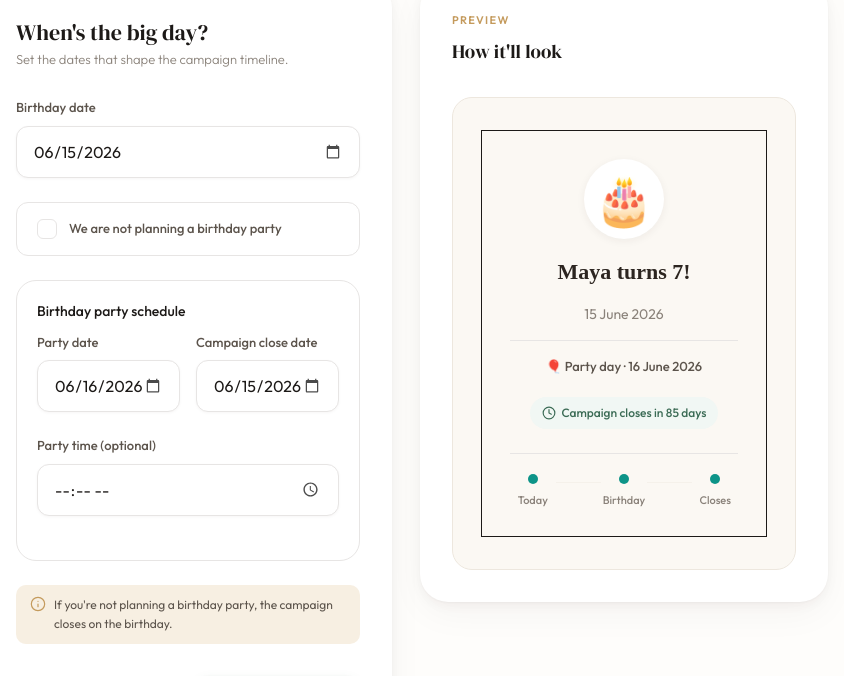
Test: DatesForm › clamps planned-party dates forward when birthday moves later
Type "2026-06-20" into the date field with id "birthdayDate" at (188, 152), box [16,126,360,178]
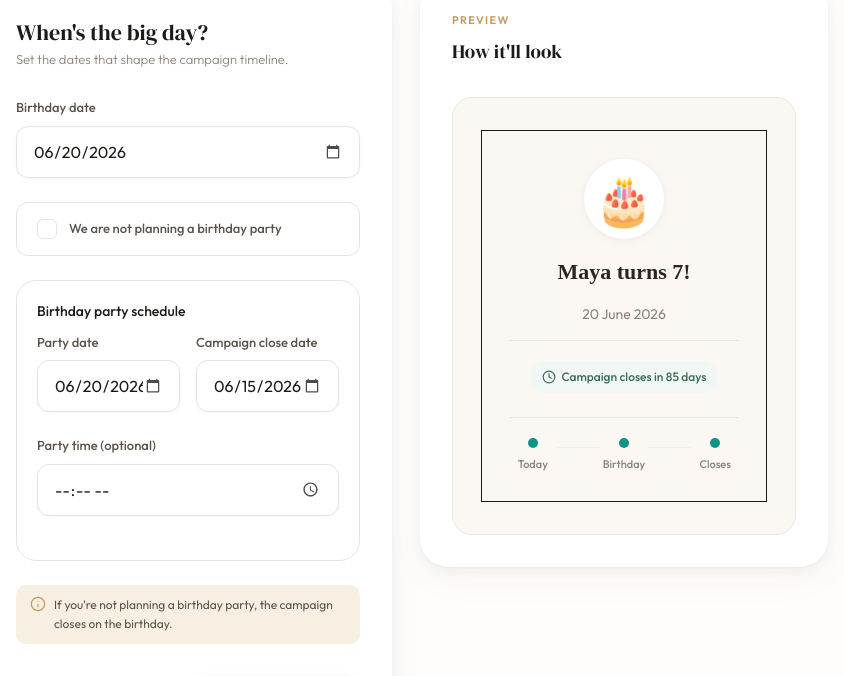
Expected: the date field with id "campaignEndDate" holds "2026-06-15", [196,360,339,412]
Expected: the date field labelled "Party date" holds "2026-06-20", [37,360,180,412]
